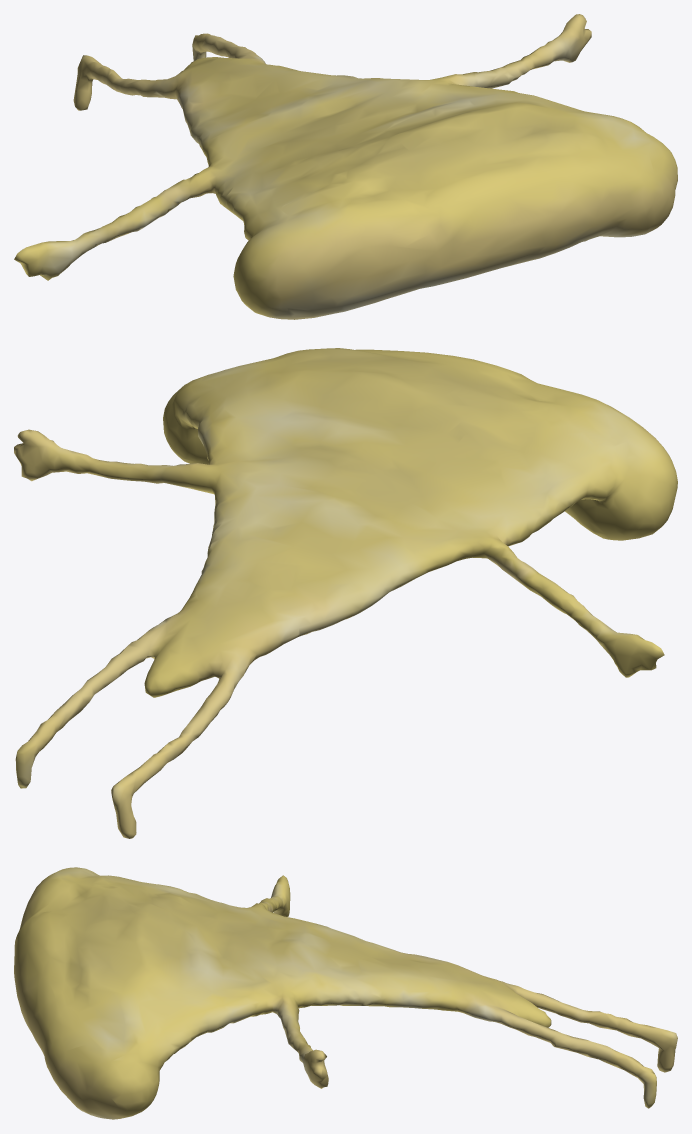
The picture shows the model from 3 angles, top to bottom: view 1: azimuth 30°, elevation 25°; view 2: azimuth 150°, elevation 25°; view 3: azimuth 270°, elevation 25°; orthographic projection. The views are drawn at different scales.
Visible parts, largest first — view 1: LOD 1_12217630209747545319_820756dedd5b3434c8e6bed8ae6a193b; view 2: LOD 1_12217630209747545319_820756dedd5b3434c8e6bed8ae6a193b; view 3: LOD 1_12217630209747545319_820756dedd5b3434c8e6bed8ae6a193b.
Boxes of the visible parts, left/top/right/bottom form: LOD 1_12217630209747545319_820756dedd5b3434c8e6bed8ae6a193b: left=14, top=14, right=677, bottom=319; LOD 1_12217630209747545319_820756dedd5b3434c8e6bed8ae6a193b: left=14, top=348, right=677, bottom=838; LOD 1_12217630209747545319_820756dedd5b3434c8e6bed8ae6a193b: left=14, top=867, right=677, bottom=1119.
Bounding box in the file's own units: 5.09 × 1.62 × 5.67.
